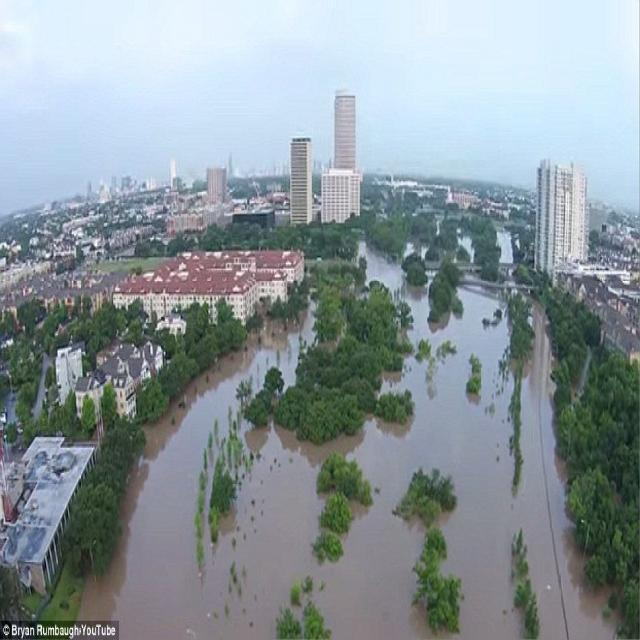flood: (79, 245, 616, 640)
house: (0, 434, 102, 596), (119, 274, 257, 336), (536, 159, 589, 274), (324, 90, 362, 225), (281, 137, 325, 228), (162, 250, 309, 276)
